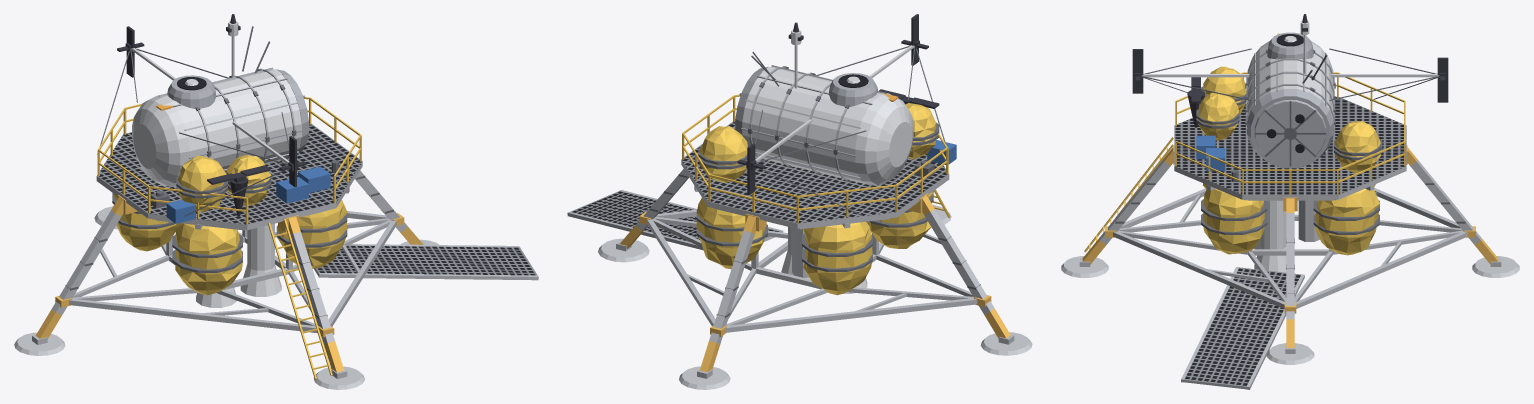
File: Lunar_Lander Ligero NAVE 2_Roblox.glb
3 views of the same model, side by side, from view 1: azimuth 30°, elevation 25°; view 2: azimuth 150°, elevation 25°; view 3: azimuth 270°, elevation 25° (orthographic). The views are drawn at different scales.
Parts seen in each view (by area): view 1: Lunar_Lander; view 2: Lunar_Lander; view 3: Lunar_Lander.
Part boxes in pixels (box(x1,y1,x2,y2)): Lunar_Lander: box(14, 14, 538, 389); Lunar_Lander: box(567, 14, 1032, 389); Lunar_Lander: box(1061, 14, 1519, 389).
Size of the model in its own units: 21.46 by 11.8 by 18.96.
14 materials, 1 textured.
